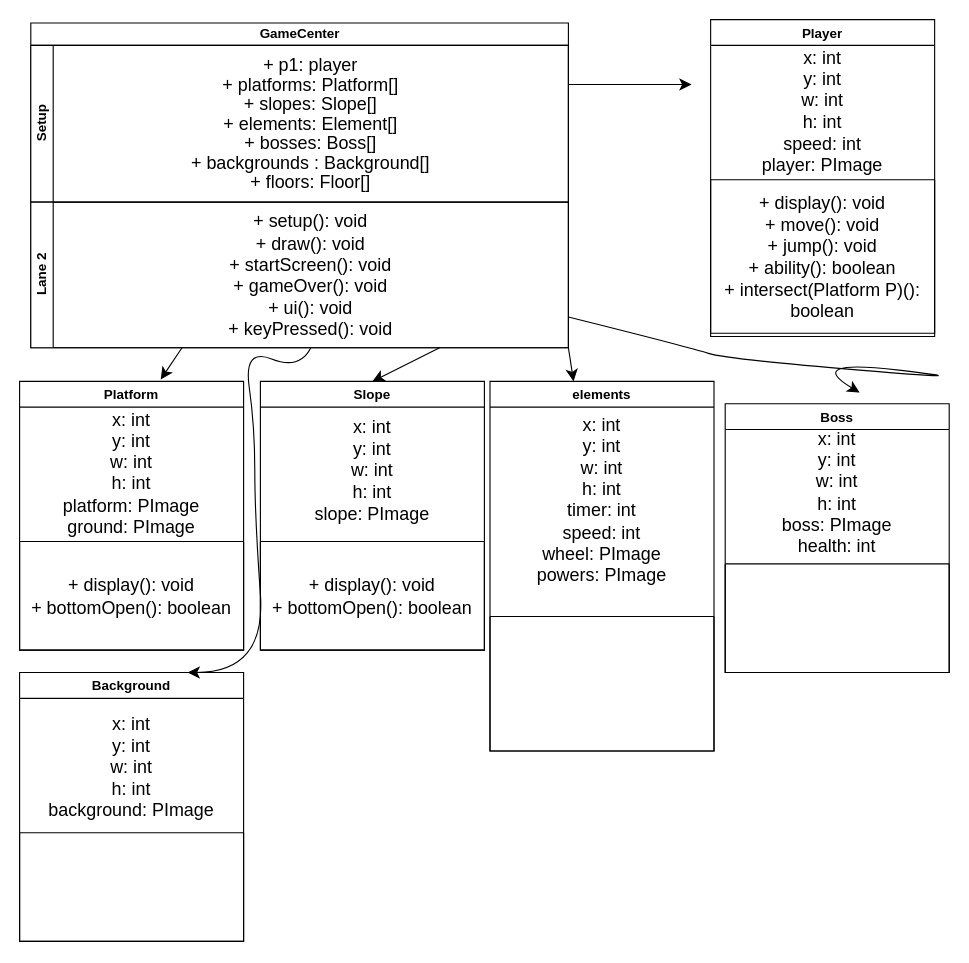
Image size: 969x963. Some labels were removed from this diagram. Each missing label, with the centre of its shape:
+ display(): void + attack(): boolean + death(): boolean: [836,618]
+ display(): void + elementType(): boolean + timer(): void: [601,683]
+ display(): void + intersect(Player P)(): boolean: [131,886]
